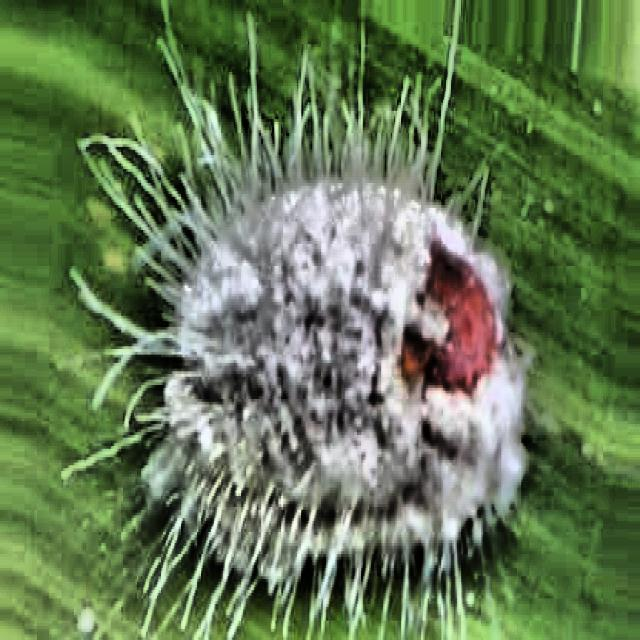Mealy-bug: (82, 21, 564, 626)
